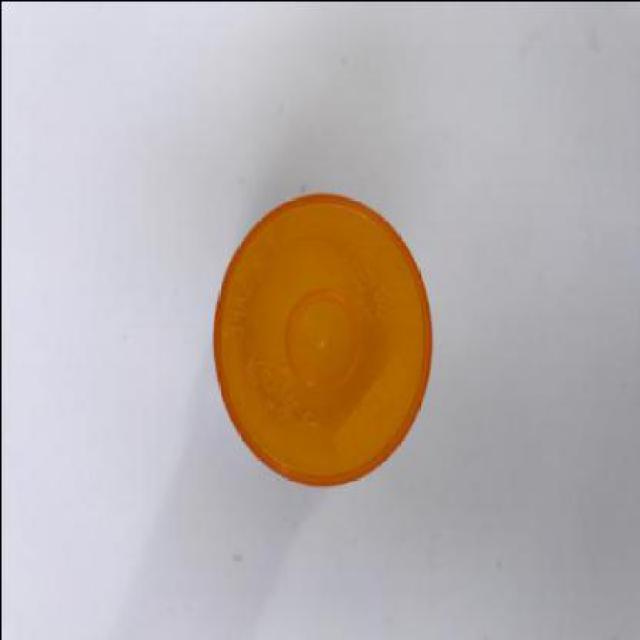PLASTIC: (212, 194, 430, 486)
